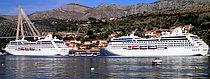Ship: (99, 24, 210, 60), (3, 32, 73, 59)
